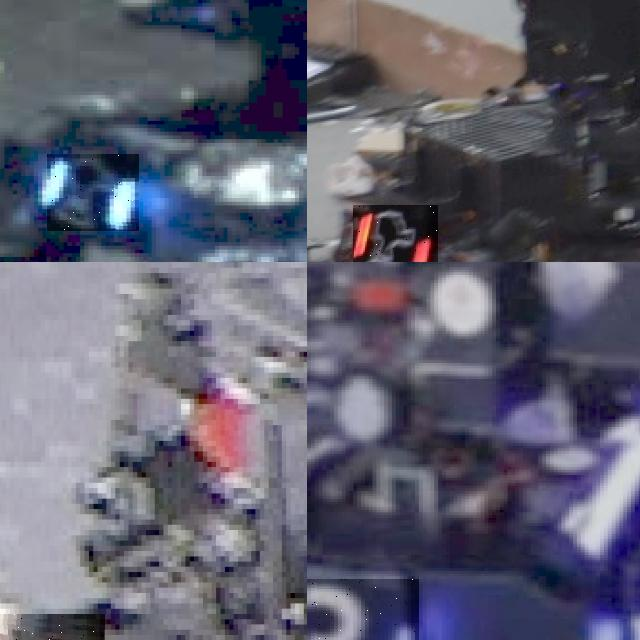B3: (307, 578, 418, 640)
Bs: (47, 154, 139, 231)
Rs: (353, 205, 439, 262)
